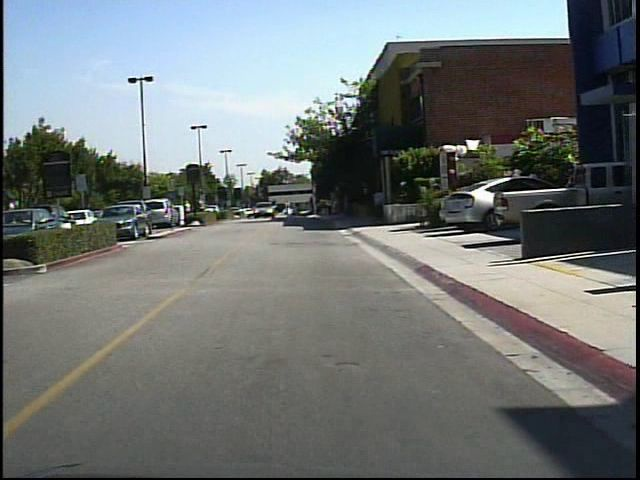person: (179, 194, 196, 224), (280, 196, 295, 223)
